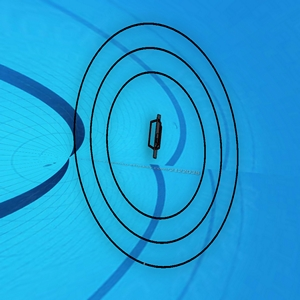circle: (72, 19, 244, 273)
submarine: (148, 113, 164, 160)
